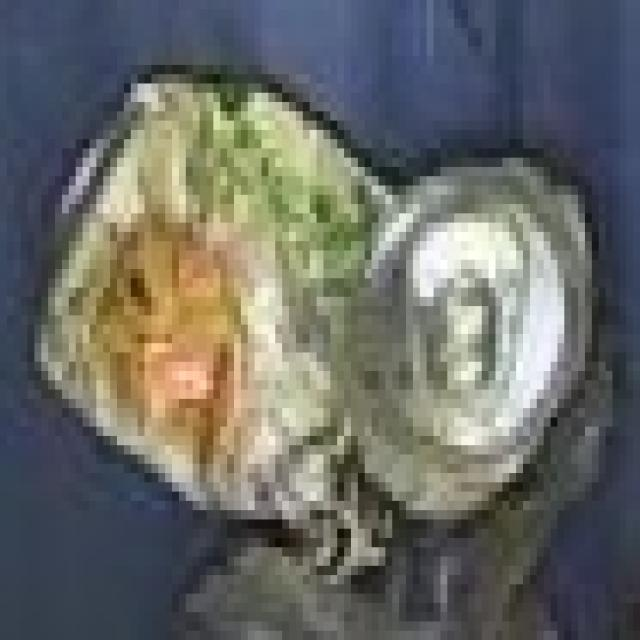can: (4, 41, 639, 577)
